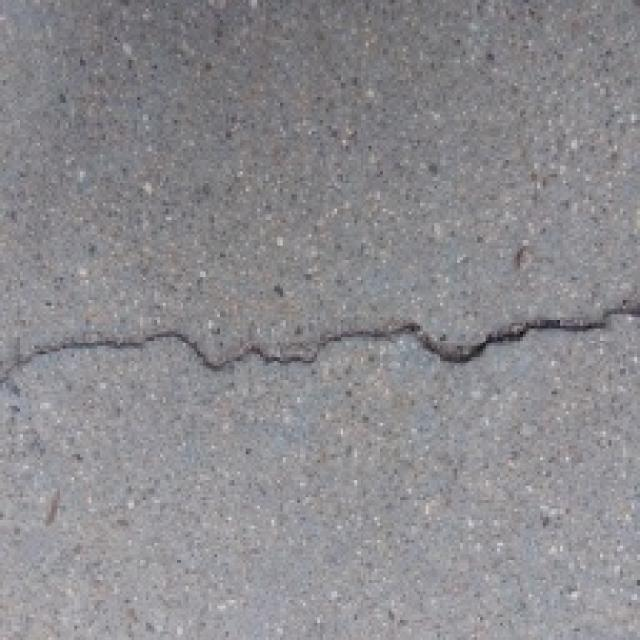SurfaceCrack: (8, 286, 640, 396)
